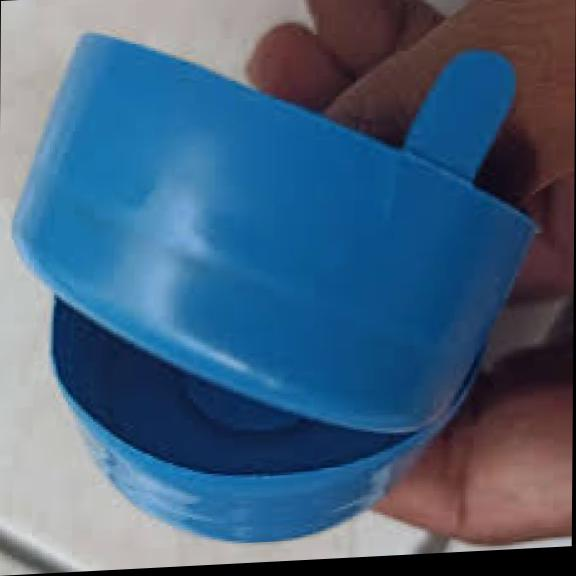Plastik: (11, 30, 539, 431)
